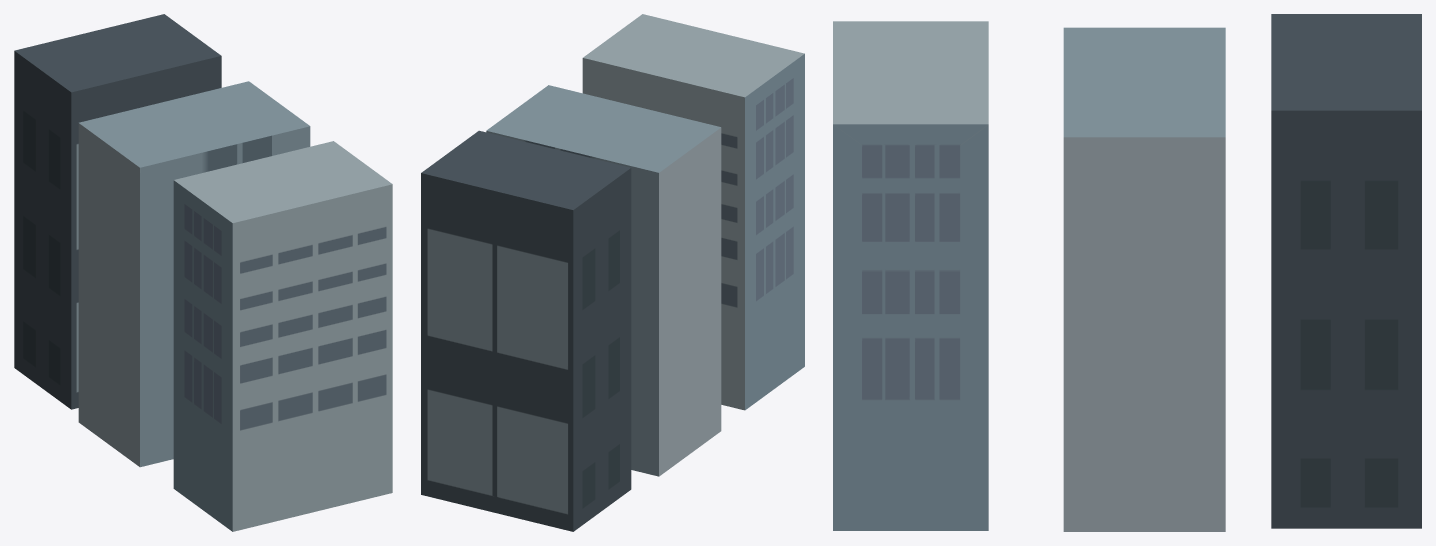
The model's file is per gedungan banyak gedung.fbx.
3 renders of one model, left to right at view 1: azimuth 30°, elevation 25°; view 2: azimuth 150°, elevation 25°; view 3: azimuth 270°, elevation 25°, orthographic. The views are drawn at different scales.
Visible parts, largest first — view 1: Cube.003, Cube.001, Cube.002; view 2: Cube.002, Cube.003, Cube.001; view 3: Cube.001, Cube.003, Cube.002.
Part boxes in pixels (x1,y1,x2,y2): Cube.003: [173, 141, 392, 531]; Cube.001: [78, 81, 310, 467]; Cube.002: [14, 14, 221, 409]; Cube.002: [421, 130, 631, 531]; Cube.003: [582, 14, 804, 410]; Cube.001: [486, 85, 721, 476]; Cube.001: [1063, 27, 1225, 531]; Cube.003: [833, 21, 988, 530]; Cube.002: [1271, 14, 1421, 528].
Bounding box in the file's own units: 16.06 × 28.57 × 36.46.
Materials: 3 (3 with a texture image).
